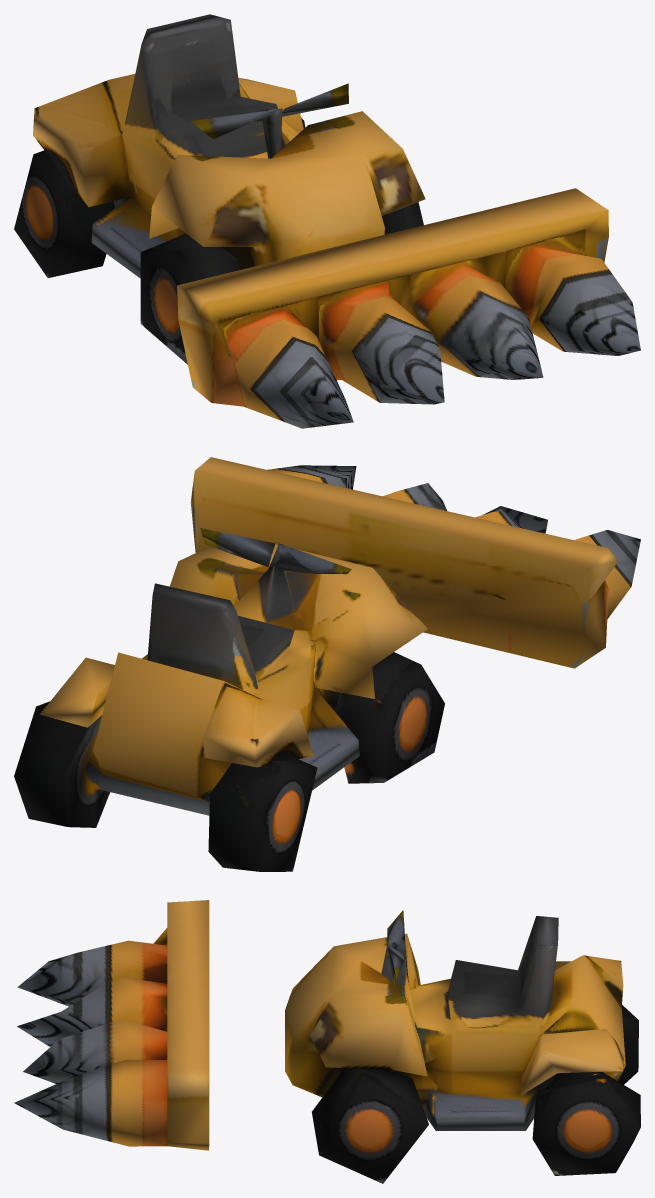
The model's file is RockCrusher.fbx.
3 renders of one model, top to bottom at view 1: azimuth 30°, elevation 25°; view 2: azimuth 150°, elevation 25°; view 3: azimuth 270°, elevation 25°, orthographic. The views are drawn at different scales.
Parts seen in each view (by area): view 1: tripo_node_48c09263; view 2: tripo_node_48c09263; view 3: tripo_node_48c09263.
Boxes of the visible parts, bbox=[...] form: tripo_node_48c09263: bbox=[14, 14, 640, 428]; tripo_node_48c09263: bbox=[14, 457, 640, 871]; tripo_node_48c09263: bbox=[14, 900, 640, 1183].
Bounding box in the file's own units: 65.45 × 101 × 36.06.
1 material, 1 textured.
